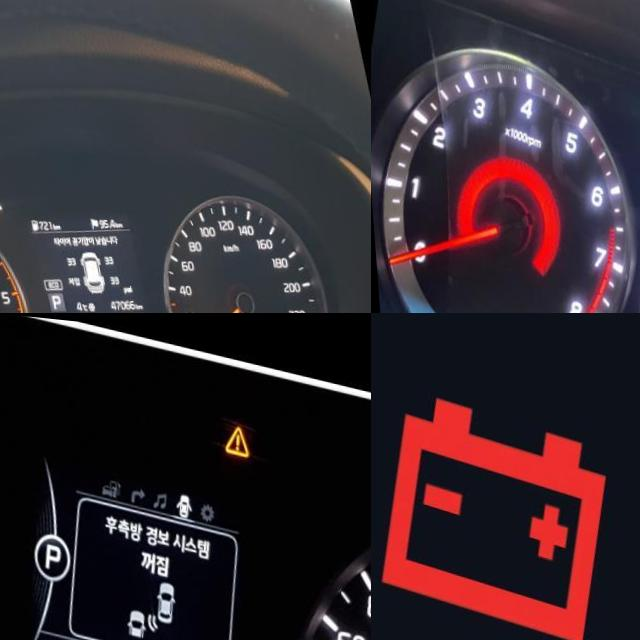Central Warning lamp: (221, 412, 251, 448)
